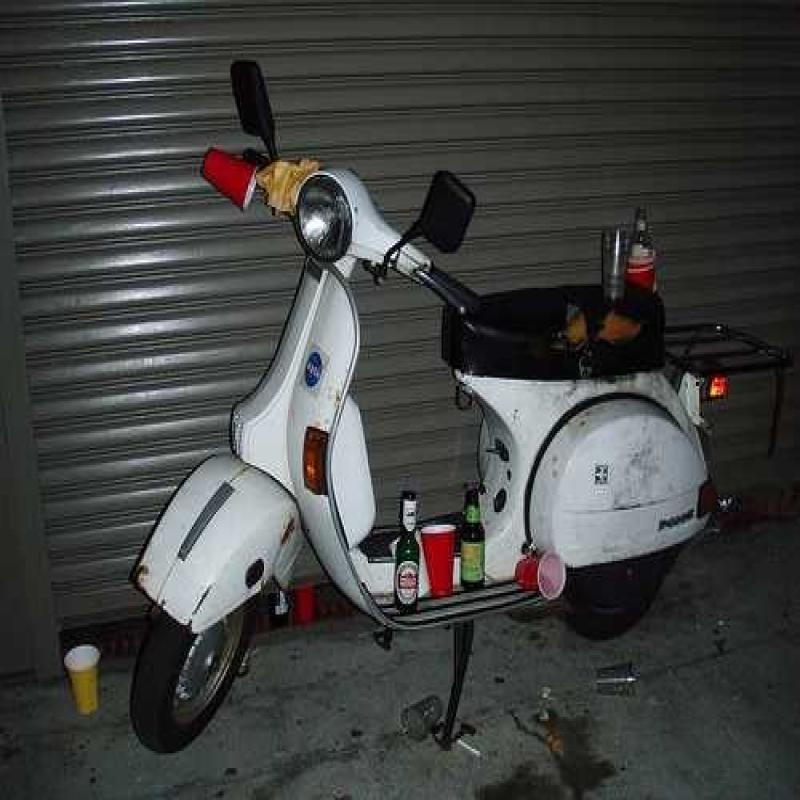bike: (74, 73, 756, 729)
